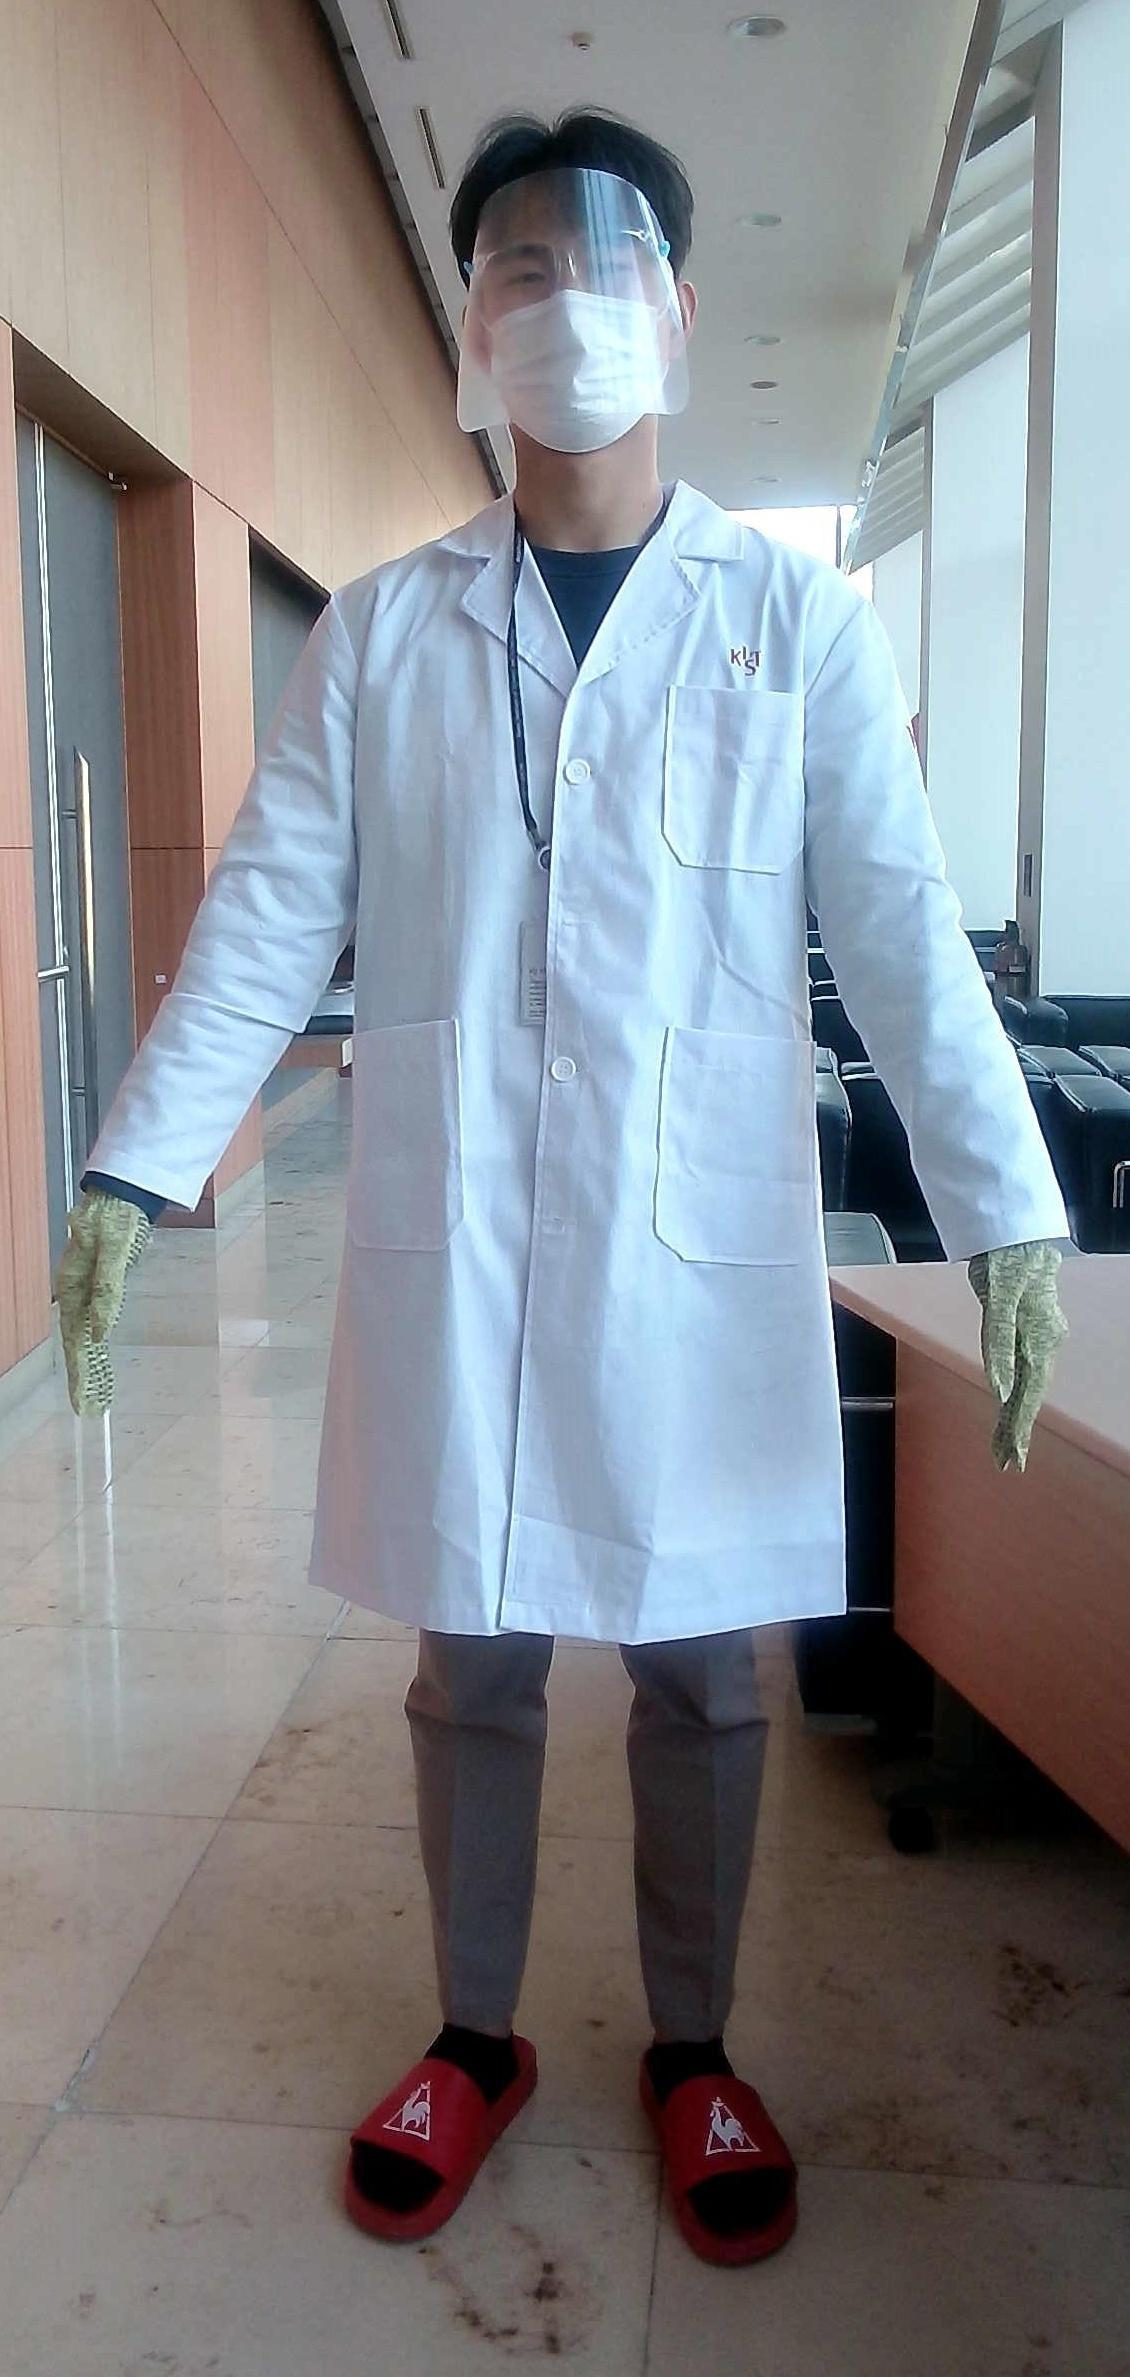lab_coat: (218, 553, 931, 1634)
